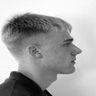ear: (25, 41, 48, 62)
